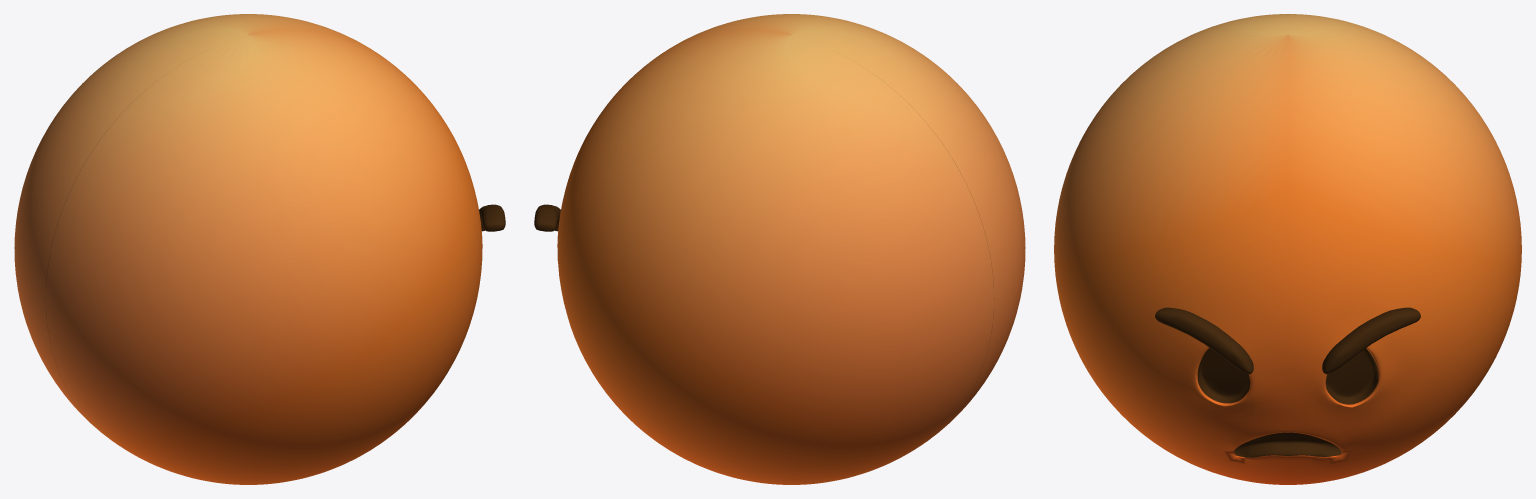
File: stern.glb
3 views of the same model, side by side, from view 1: azimuth 30°, elevation 25°; view 2: azimuth 150°, elevation 25°; view 3: azimuth 270°, elevation 25° (orthographic).
Visible parts, largest first — view 1: Sphere.007; view 2: Sphere.007; view 3: Sphere.007.
Part boxes in pixels (x1,y1,x2,y2): Sphere.007: (14,14,505,484); Sphere.007: (534,14,1025,484); Sphere.007: (1054,14,1521,484).
Bounding box in the file's own units: 2.06 × 1.99 × 1.97.
Materials: 2 (1 with a texture image).
